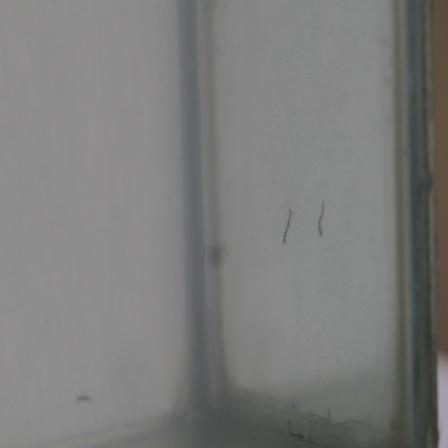Jentik-Nyamuk: (277, 204, 299, 250)
